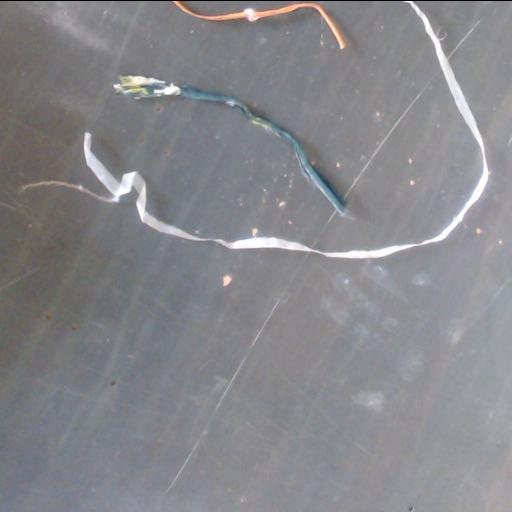cloth: (114, 75, 344, 213)
conveyor belt: (0, 1, 511, 512)
thread: (21, 1, 489, 257), (173, 1, 346, 48)
